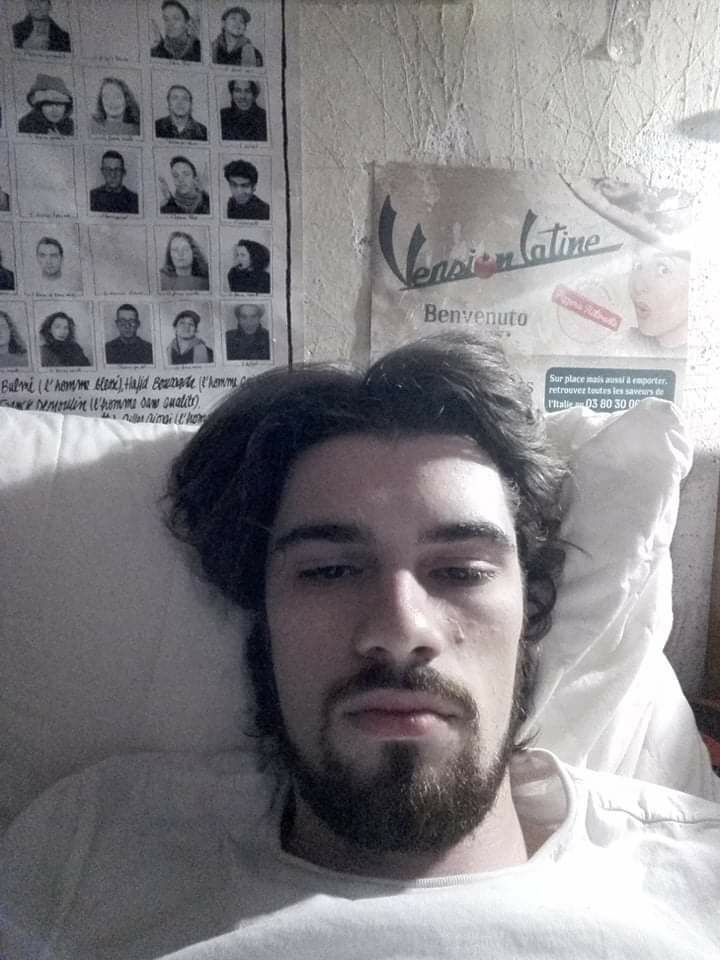without_mask: (246, 423, 552, 853)
